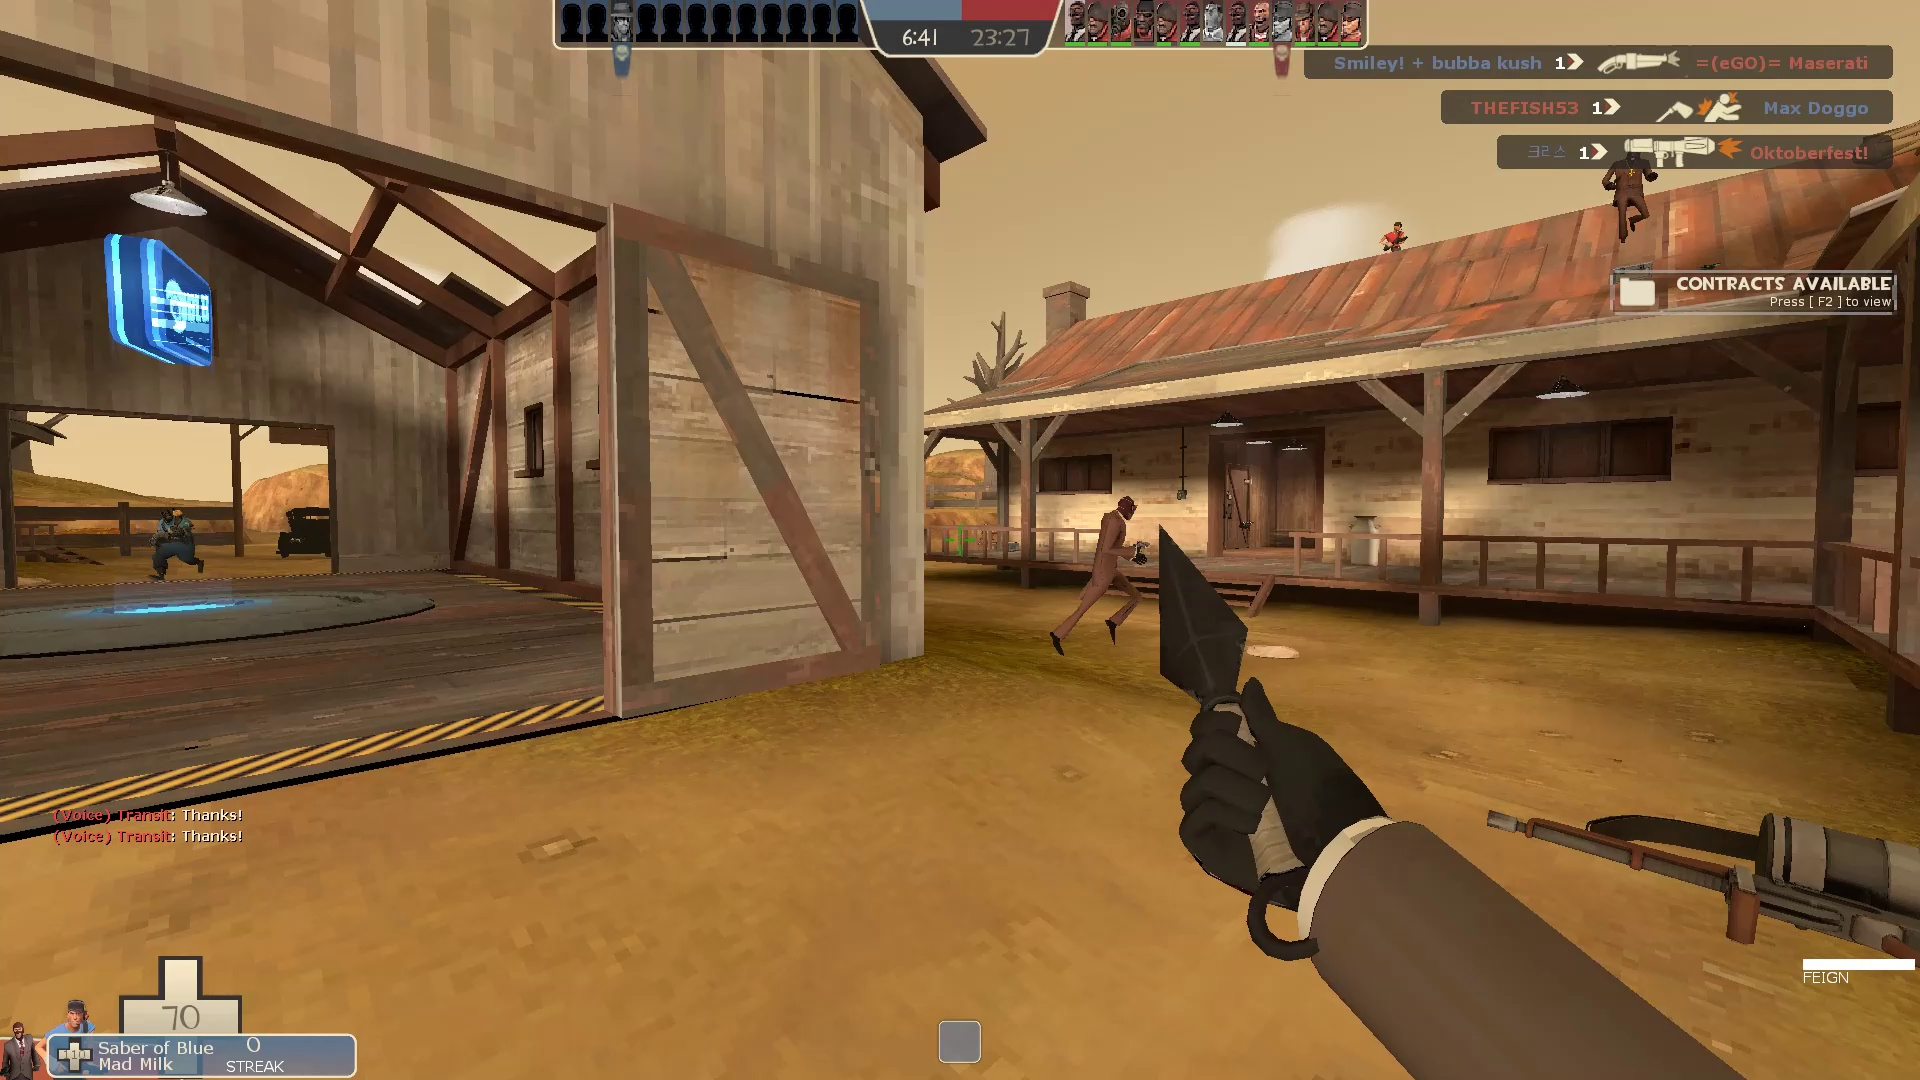blu_pyro: (142, 504, 208, 589)
red_scout: (1377, 215, 1416, 262)
red_spy: (1035, 495, 1160, 669), (1600, 138, 1663, 255)
